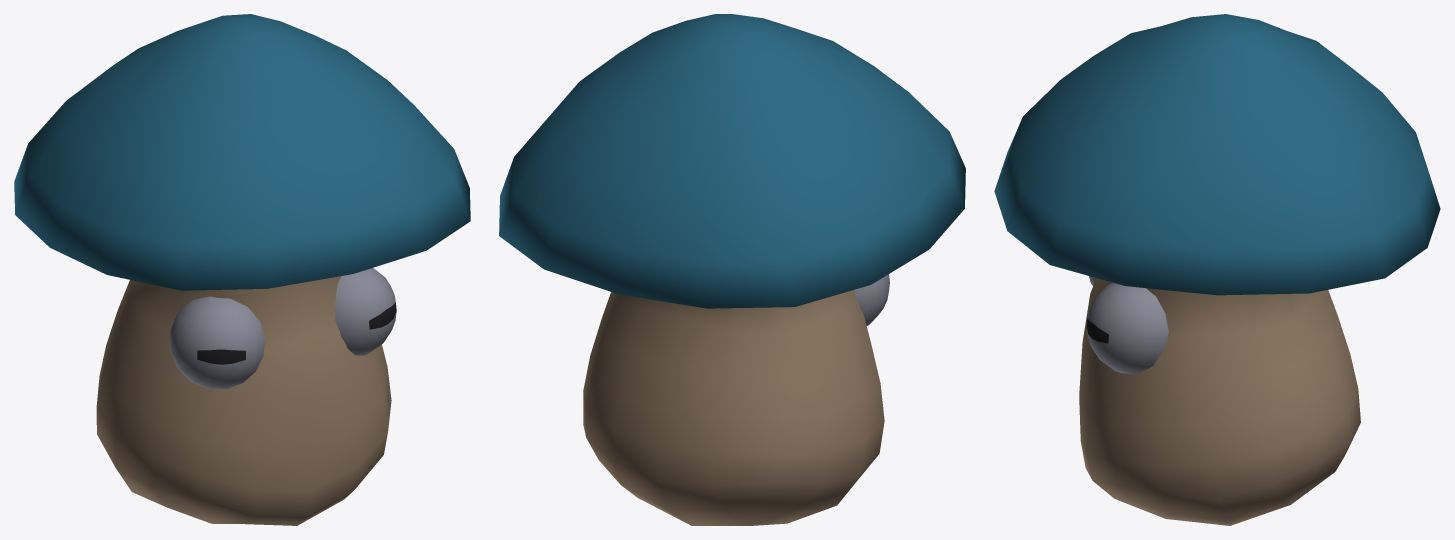
The model's file is q_mushnub.glb.
The picture shows the model from 3 angles, left to right: view 1: azimuth 30°, elevation 25°; view 2: azimuth 150°, elevation 25°; view 3: azimuth 270°, elevation 25°; orthographic projection. The views are drawn at different scales.
Parts seen in each view (by area): view 1: Mushnub_Blob_b; view 2: Mushnub_Blob_b; view 3: Mushnub_Blob_b.
Part boxes in pixels (left/top/right/bottom): Mushnub_Blob_b: left=14, top=14, right=470, bottom=525; Mushnub_Blob_b: left=499, top=14, right=965, bottom=525; Mushnub_Blob_b: left=994, top=14, right=1440, bottom=525.
Size of the model in its own units: 0.8304 by 1 by 0.8296.
